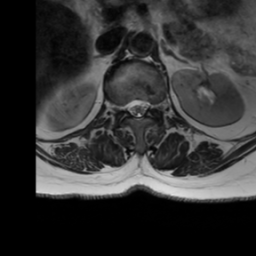CCS_normal: (133, 92, 141, 125)
LFS_stenosis: (150, 92, 158, 116)
LLS_normal: (141, 92, 150, 119)
RFS_stenosis: (119, 95, 126, 118)
RLS_normal: (126, 94, 133, 120)
